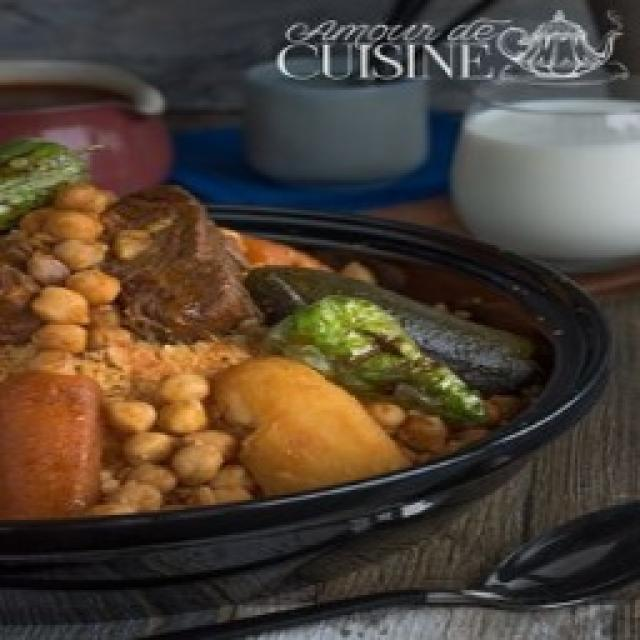Couscous: (0, 182, 549, 517)
